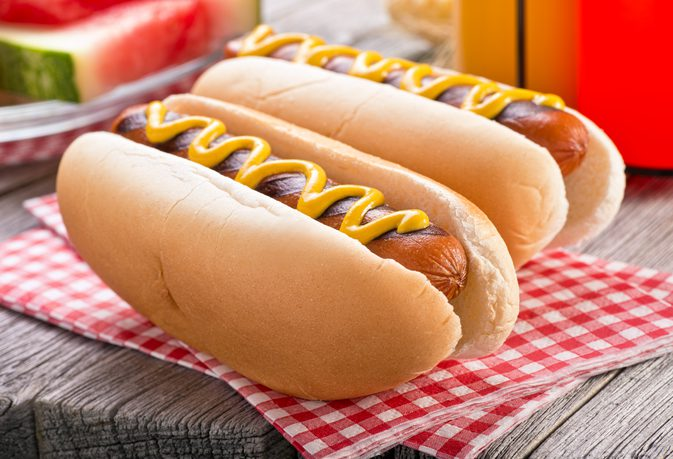hotdog: (57, 92, 514, 409), (191, 24, 625, 259)
